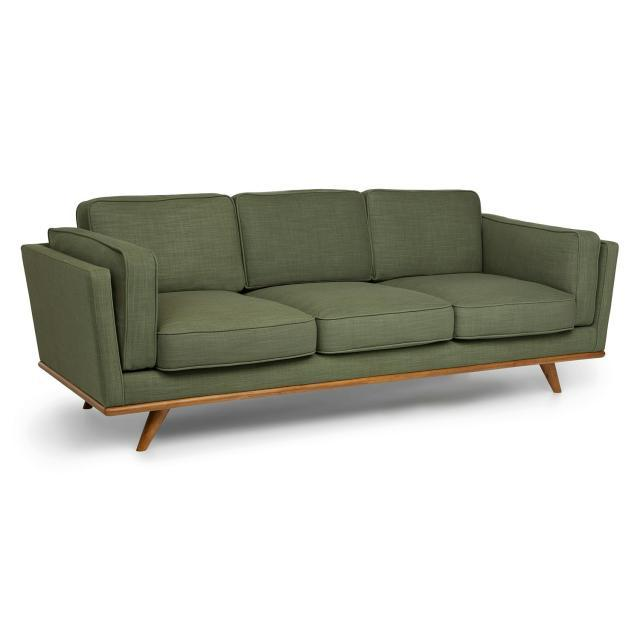sofa: (20, 186, 620, 452)
